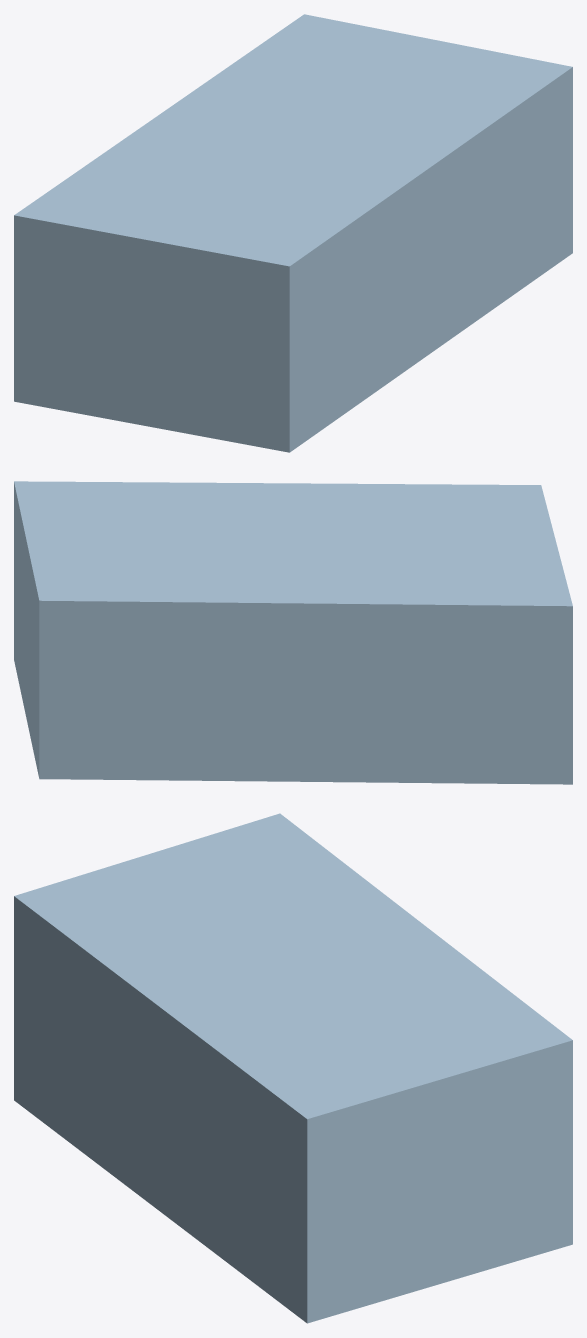
The model's file is njupt_k_dormitory_02.glb.
3 views of the same model, one above another, from view 1: azimuth 30°, elevation 25°; view 2: azimuth 150°, elevation 25°; view 3: azimuth 270°, elevation 25° (orthographic). The views are drawn at different scales.
Visible parts, largest first — view 1: njupt_k_dormitory_02; view 2: njupt_k_dormitory_02; view 3: njupt_k_dormitory_02.
Boxes of the visible parts, x1,y1,x2,y2 form: njupt_k_dormitory_02: (14, 14, 572, 452); njupt_k_dormitory_02: (14, 481, 572, 784); njupt_k_dormitory_02: (14, 813, 572, 1323).
Size of the model in its own units: 58.1 by 18.1 by 44.88.
